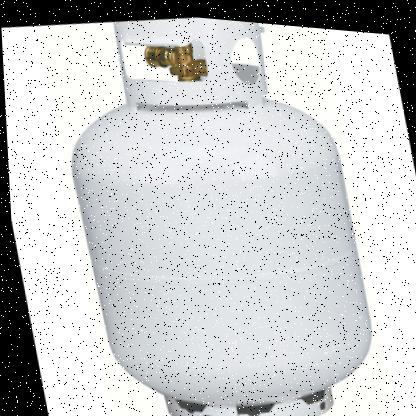gas-tank: (35, 2, 402, 415)
